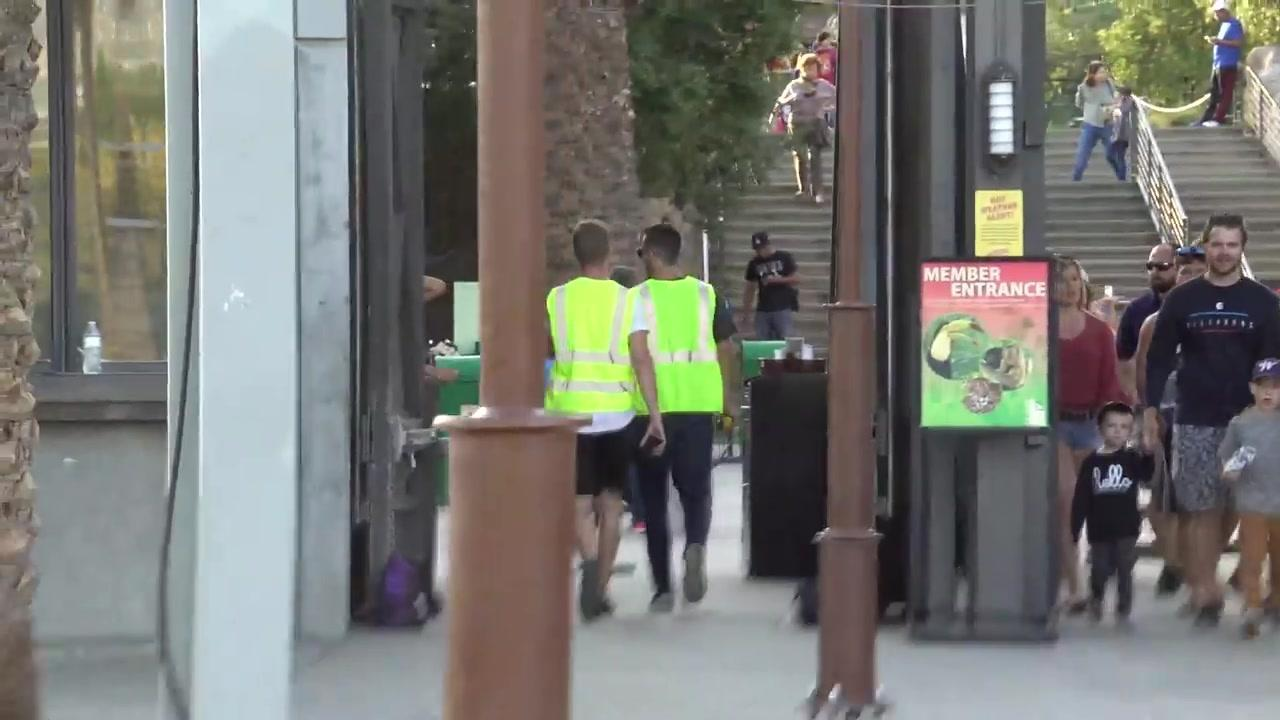vest: (631, 274, 725, 413), (544, 276, 636, 415)
